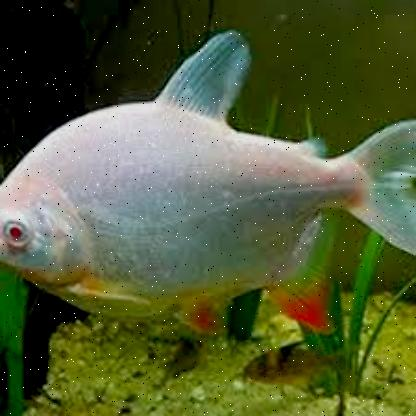ikan-pacu: (0, 94, 410, 316)
